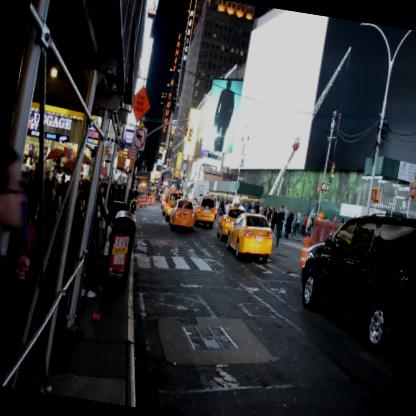car: (290, 202, 415, 361), (224, 210, 276, 265), (214, 202, 246, 244), (167, 198, 197, 233), (191, 195, 217, 229)
